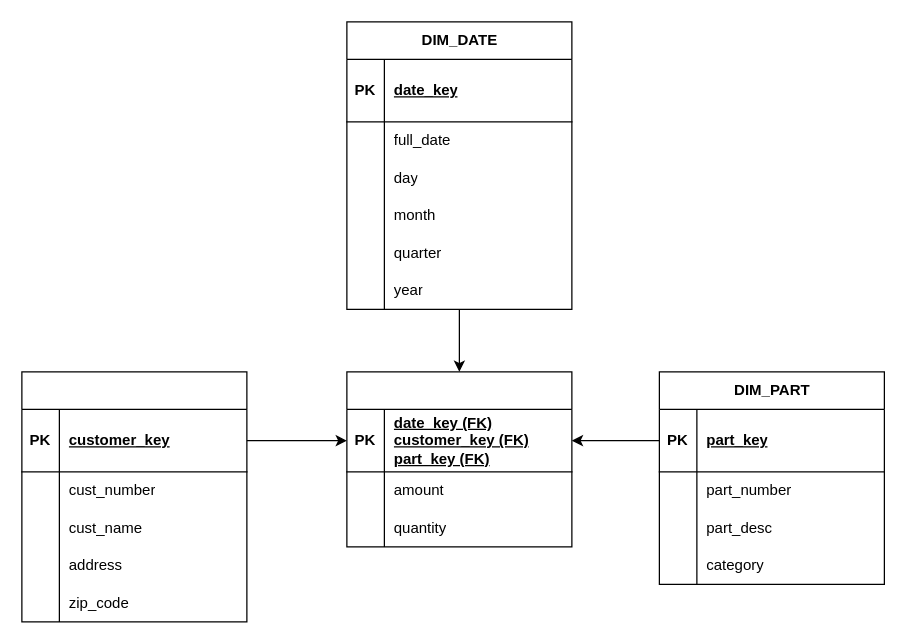
The diagram is 906 pixels wide and 644 high, and some of its shapes have lost their labels. The shapes that lost their labels are listed below. From the top down, each one's box as (x1, y1, x2, y2) in pixels, then its label:
(346, 371, 572, 547): FACT_DAILY_SALES
(21, 371, 247, 622): DIM_CUSTOMER
